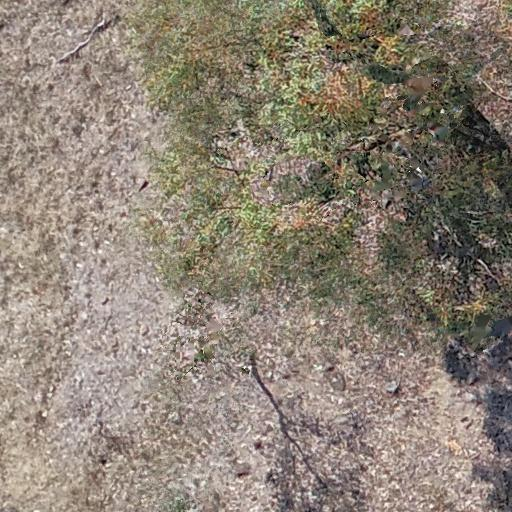stone: (139, 324, 150, 336), (101, 298, 110, 304)
